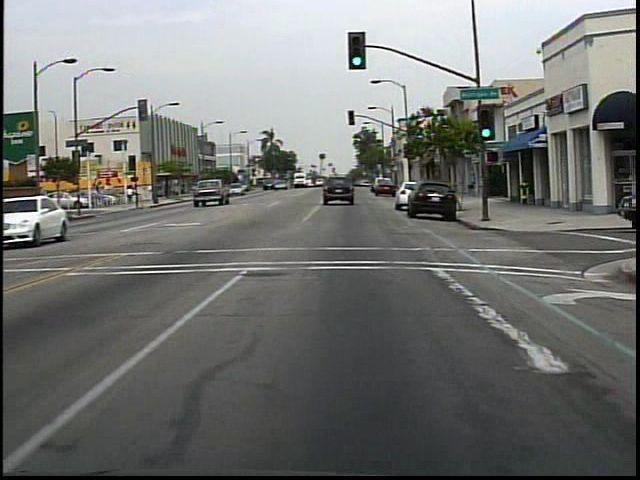person: (126, 182, 135, 206)
